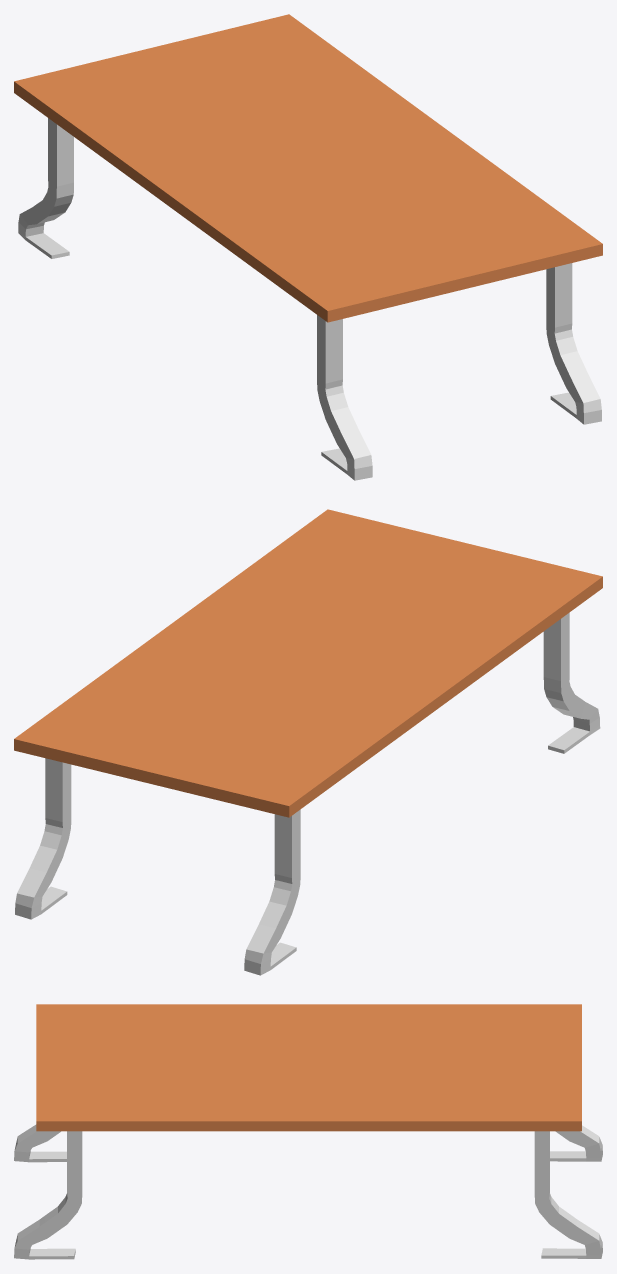
The model's file is Level1Table.fbx.
The picture shows the model from 3 angles, top to bottom: view 1: azimuth 30°, elevation 25°; view 2: azimuth 150°, elevation 25°; view 3: azimuth 270°, elevation 25°; orthographic projection. The views are drawn at different scales.
Parts seen in each view (by area): view 1: Plane, Cube.001, Cube; view 2: Plane, Cube, Cube.001; view 3: Plane, Cube.001, Cube.
Boxes of the visible parts, box(x1,y1,x2,y2) form: Plane: box(14, 14, 602, 322); Cube.001: box(317, 263, 601, 480); Cube: box(18, 118, 73, 258); Plane: box(14, 509, 602, 817); Cube: box(15, 758, 300, 975); Cube.001: box(543, 612, 600, 753); Plane: box(36, 1004, 581, 1131); Cube.001: box(14, 1124, 82, 1259); Cube: box(534, 1125, 602, 1258).
Size of the model in its own units: 354 by 203 by 755.
